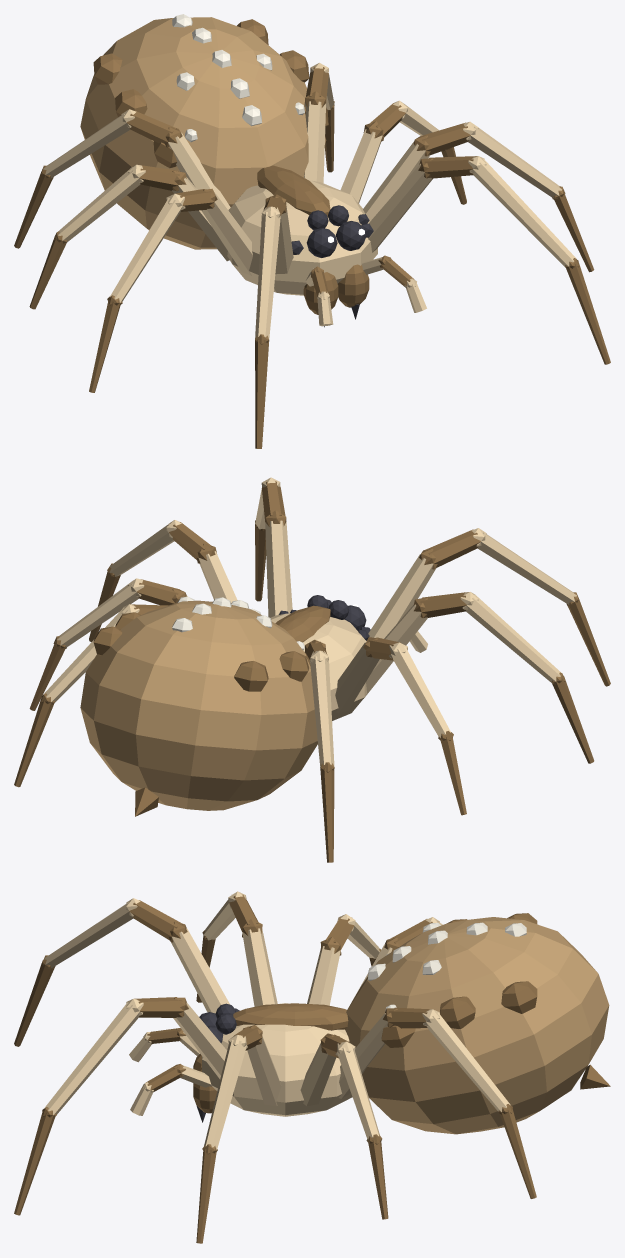
The model's file is epeire.glb.
The picture shows the model from 3 angles, top to bottom: view 1: azimuth 30°, elevation 25°; view 2: azimuth 150°, elevation 25°; view 3: azimuth 270°, elevation 25°; orthographic projection.
Visible parts, largest first — view 1: Abdomen, Epeire_Body, Leg_R1_2, Leg_L1_2, Leg_L2_2, Leg_R2_2, Leg_R1_0, Leg_L3_2, Leg_L2_0, Leg_L4_2, Leg_R4_0, Leg_R2_0 (+18 smaller); view 2: Abdomen, Epeire_Body, Leg_R1_0, Leg_L2_2, Leg_L4_2, Leg_L1_0, Leg_L1_2, Leg_L3_2, Leg_R3_2, Leg_L3_0, Leg_R4_2, Leg_R2_2 (+15 smaller); view 3: Abdomen, Epeire_Body, Leg_R1_2, Leg_R4_2, Leg_L1_0, Leg_R2_2, Leg_L2_0, Leg_R3_2, Leg_L1_2, Leg_R1_0, Leg_R2_0, Leg_L3_0 (+16 smaller).
Part boxes in pixels (bbox=[...]): Abdomen: bbox=[80, 14, 328, 249]; Epeire_Body: bbox=[227, 165, 377, 327]; Leg_R1_2: bbox=[468, 156, 576, 267]; Leg_L1_2: bbox=[255, 206, 280, 339]; Leg_L2_2: bbox=[110, 193, 185, 302]; Leg_R2_2: bbox=[462, 121, 561, 198]; Leg_R1_0: bbox=[368, 164, 432, 252]; Leg_L3_2: bbox=[58, 164, 145, 242]; Leg_L2_0: bbox=[201, 193, 252, 275]; Leg_L4_2: bbox=[43, 109, 136, 178]; Leg_R4_0: bbox=[304, 101, 325, 183]; Leg_R2_0: bbox=[363, 142, 430, 220]; Abdomen: bbox=[80, 596, 317, 810]; Epeire_Body: bbox=[135, 595, 370, 816]; Leg_R1_0: bbox=[265, 520, 292, 617]; Leg_L2_2: bbox=[460, 592, 561, 682]; Leg_L4_2: bbox=[310, 650, 334, 767]; Leg_L1_0: bbox=[368, 554, 436, 638]; Leg_L1_2: bbox=[471, 528, 576, 604]; Leg_L3_2: bbox=[389, 642, 451, 737]; Leg_R3_2: bbox=[57, 578, 144, 647]; Leg_L3_0: bbox=[335, 641, 379, 713]; Leg_R4_2: bbox=[43, 604, 139, 702]; Leg_R2_2: bbox=[109, 520, 181, 576]; Abdomen: bbox=[345, 913, 609, 1134]; Epeire_Body: bbox=[193, 1003, 610, 1122]; Leg_R1_2: bbox=[44, 998, 143, 1115]; Leg_R4_2: bbox=[422, 1009, 510, 1111]; Leg_L1_0: bbox=[171, 928, 229, 1013]; Leg_R2_2: bbox=[204, 1035, 247, 1149]; Leg_L2_0: bbox=[242, 928, 277, 1006]; Leg_R3_2: bbox=[335, 1041, 379, 1140]; Leg_L1_2: bbox=[44, 898, 140, 968]; Leg_R1_0: bbox=[173, 1002, 226, 1079]; Leg_R2_0: bbox=[247, 1036, 281, 1105]; Leg_L3_0: bbox=[307, 946, 340, 1005].
Size of the model in its own units: 1.67 by 0.6549 by 1.72.
